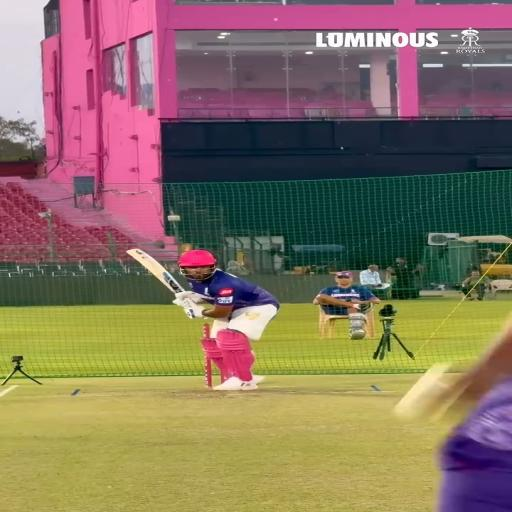Cricket bat: (126, 248, 183, 296)
